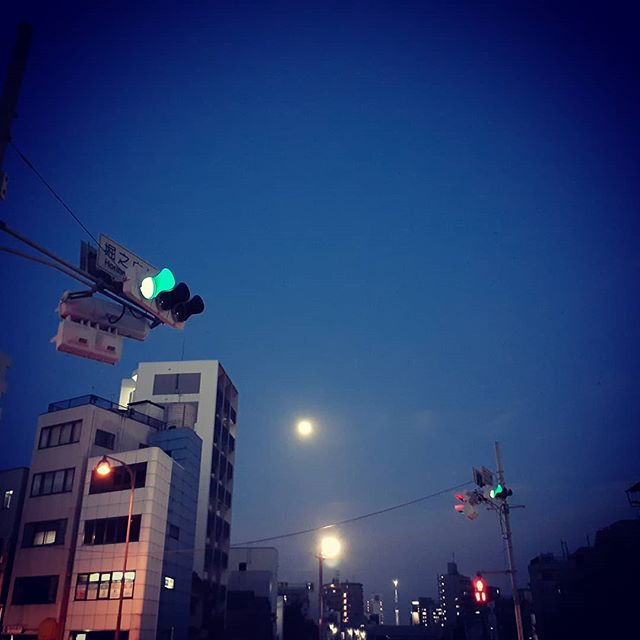building: (28, 360, 231, 640)
light pole: (311, 523, 349, 640)
sky: (36, 1, 640, 395)
